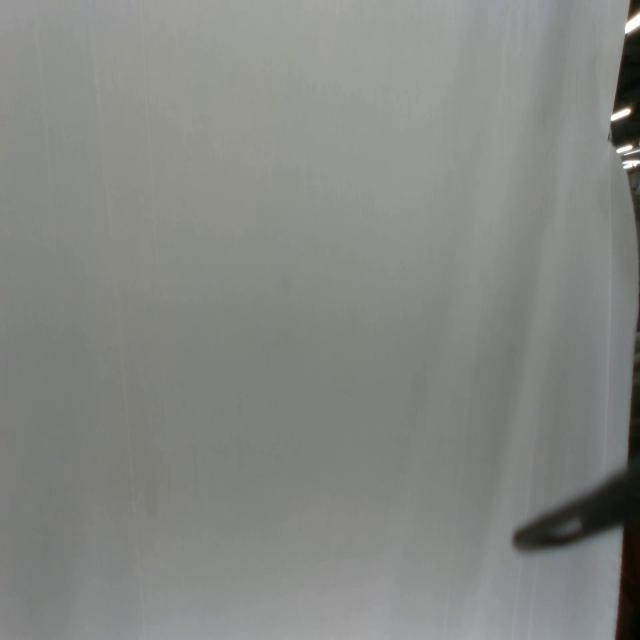crease: (86, 2, 148, 636)
